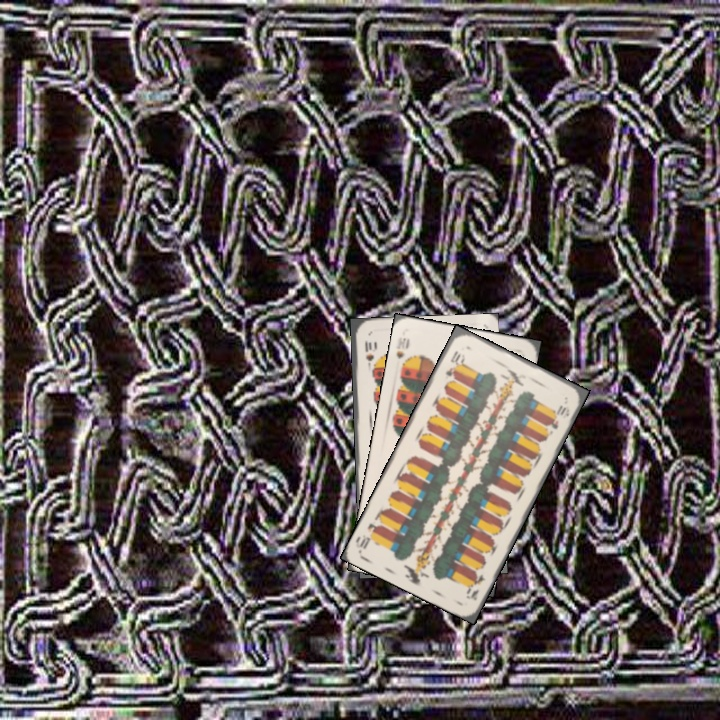E10: (462, 564, 488, 603), (441, 346, 467, 379)
S10: (392, 333, 412, 371), (361, 336, 375, 373)
